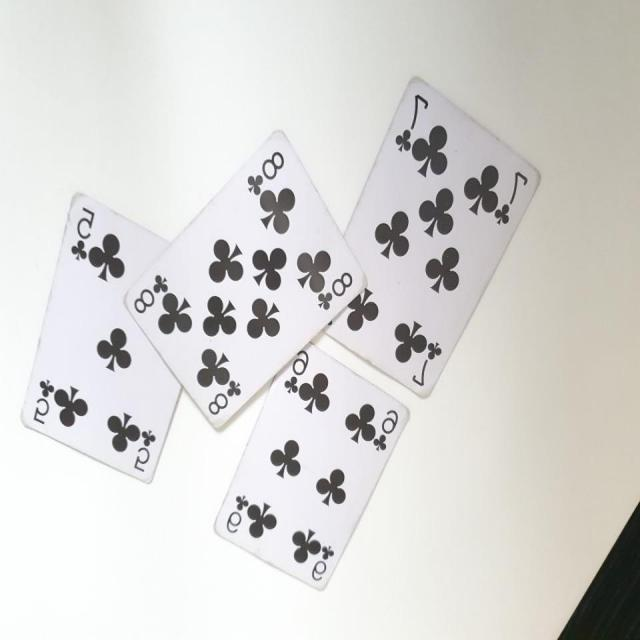5 of clubs: (18, 190, 180, 490)
6 of clubs: (212, 344, 414, 593)
7 of clubs: (321, 74, 544, 400)
8 of clubs: (123, 130, 368, 428)
